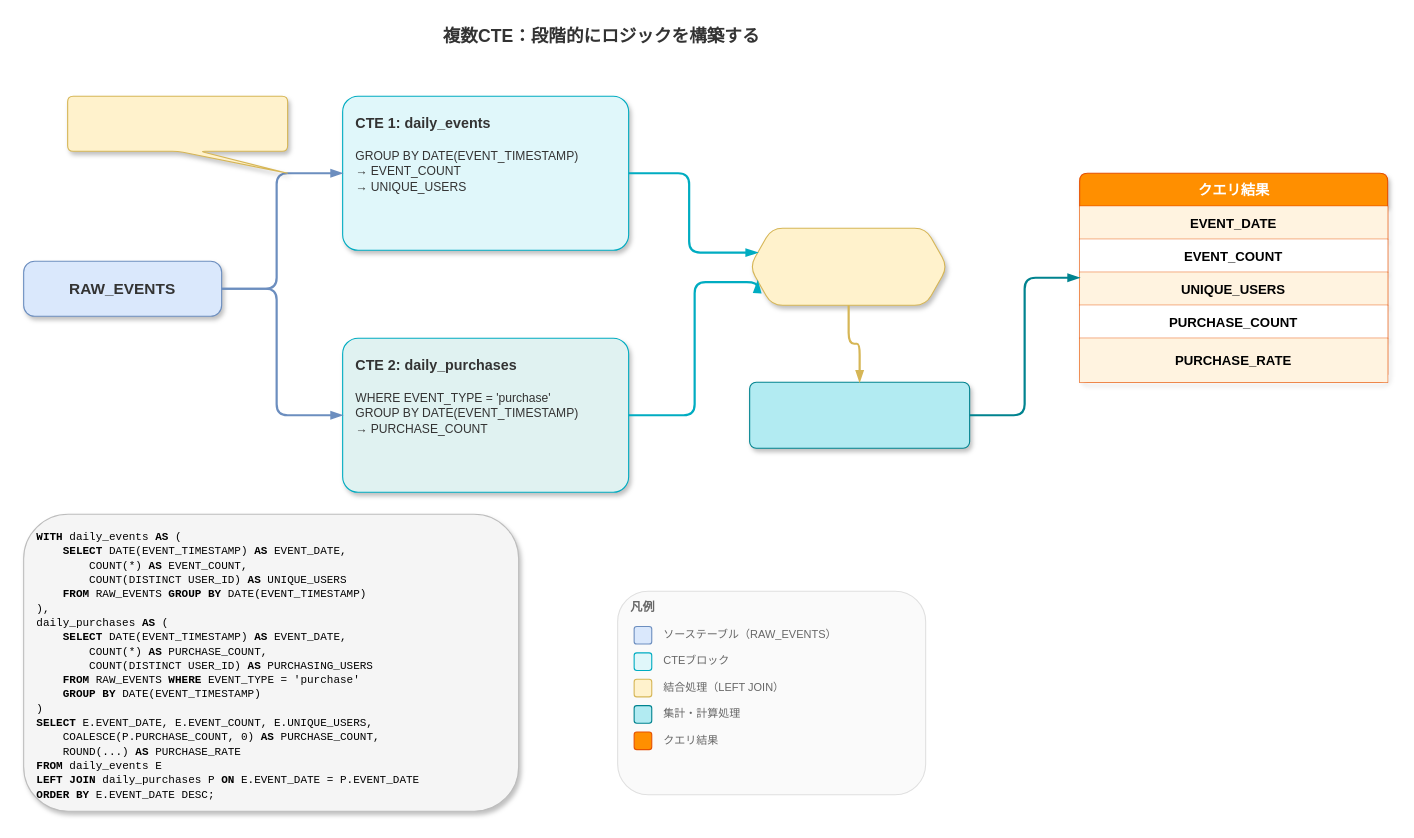
Image size: 1414x838. Some labels were removed from this diagram. The shapes that lost their labels are listed below. From the top down, each one's centre as x and y in pixels, then its label:
At [178,136]: "複数CTEのメリット 各ステップを個別に確認できる".
At [849,268]: "LEFT JOIN ON EVENT_DATE".
At [860,416]: "PURCHASE_RATE = PURCHASE_COUNT / EVENT_COUNT".
